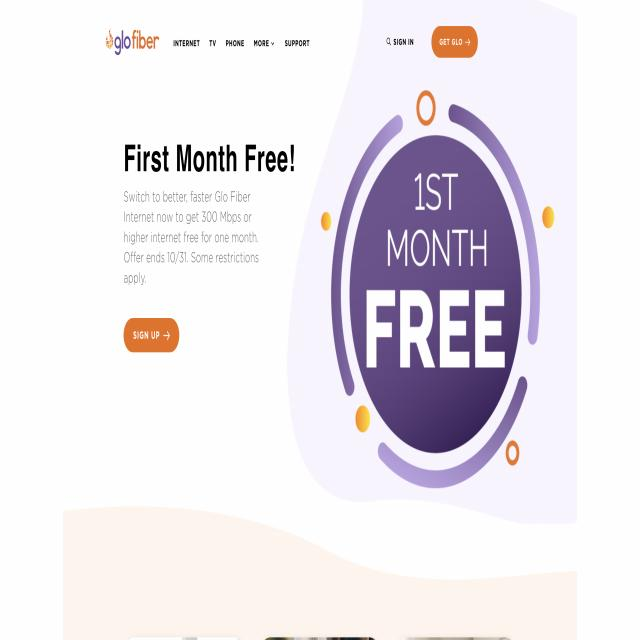Logo: (102, 20, 164, 67)
Navigation: (169, 19, 516, 64)
